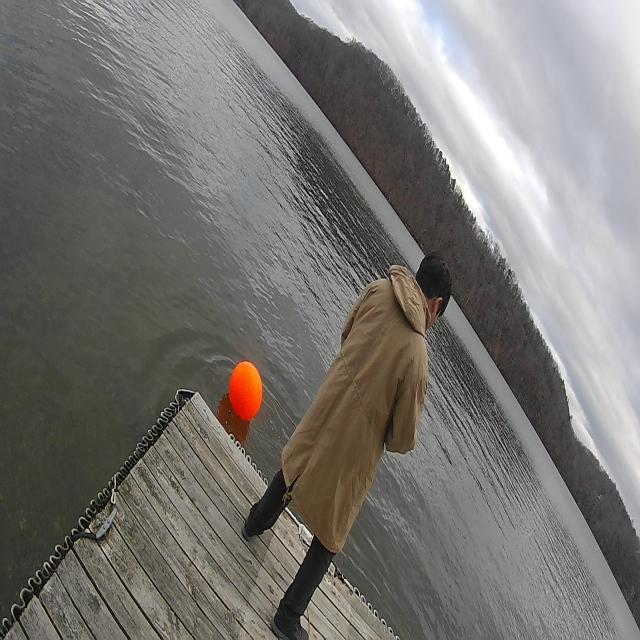Buoy: (228, 356, 264, 424)
